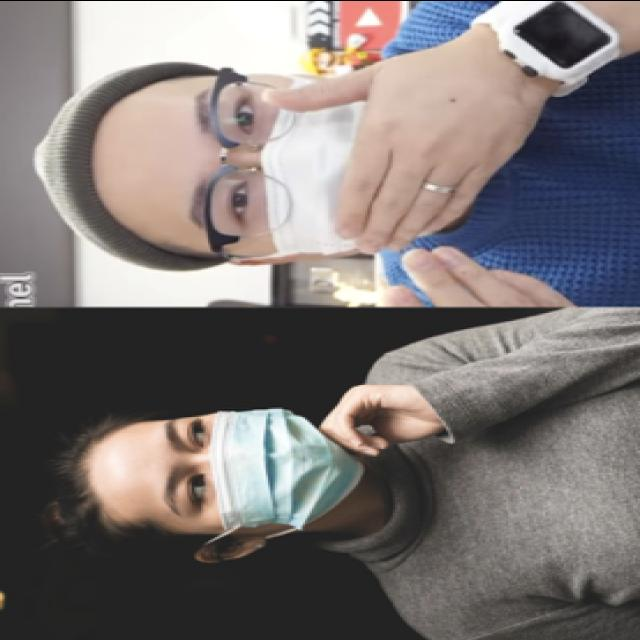mask: (185, 70, 402, 260), (160, 408, 370, 534)
